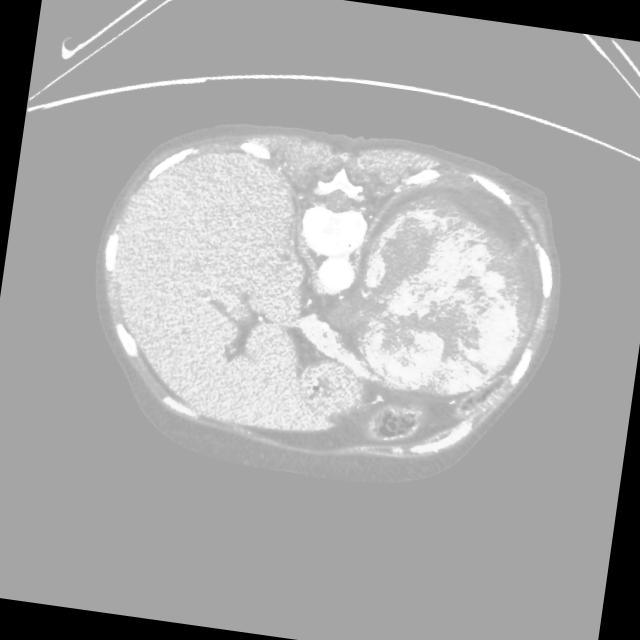TUMOR: (284, 155, 570, 441)
